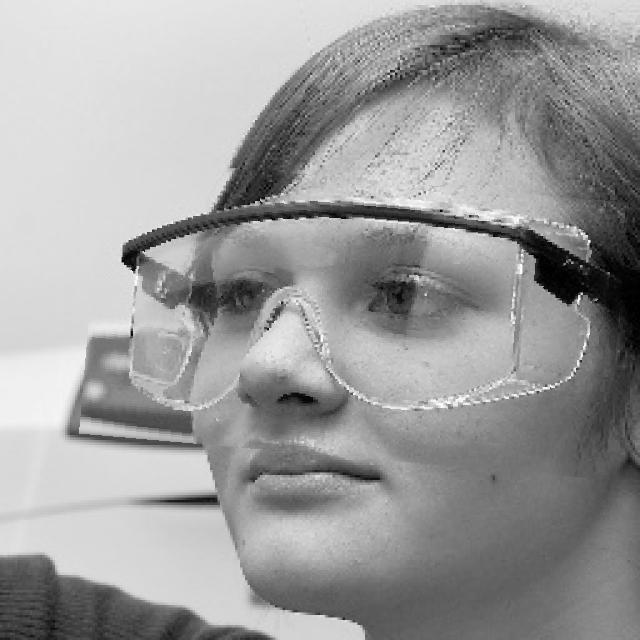no-glasses: (84, 168, 624, 468)
